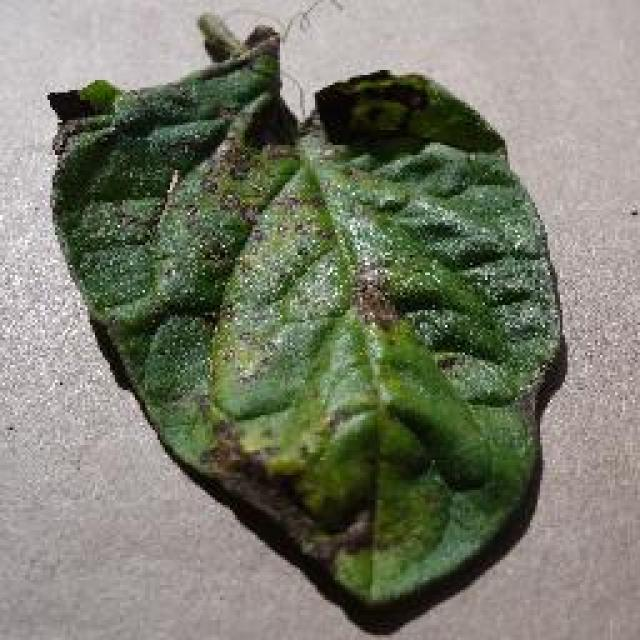Tomato___Early_blight: (43, 9, 567, 609)
